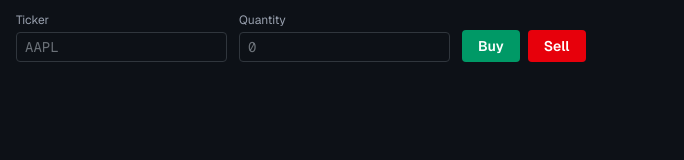
TradeBar › Test 4b: an invalid ticker (over 12 chars / non-matching pattern) is blocked WITHOUT any fetch
In the field labelled "Ticker": coordinates (122, 47) 16,32 -> 227,62, type "TOOLONGTICKER12"
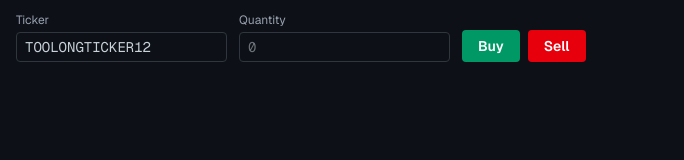
In the number field labelled "Quantity": coordinates (344, 47) 239,32 -> 450,62, type "5"
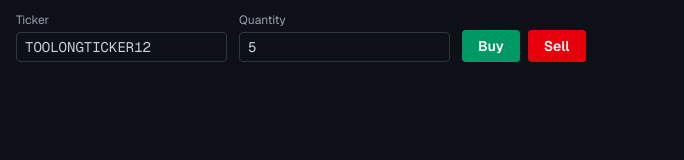
Click the button "Buy": coordinates (491, 46) 462,30 -> 520,62
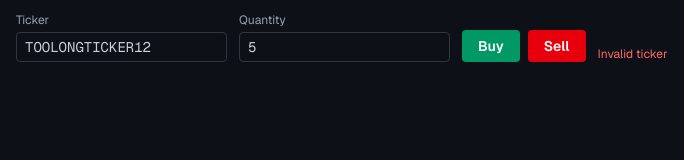
Expected: the text "Invalid ticker" is shown, 598,46 -> 668,62
